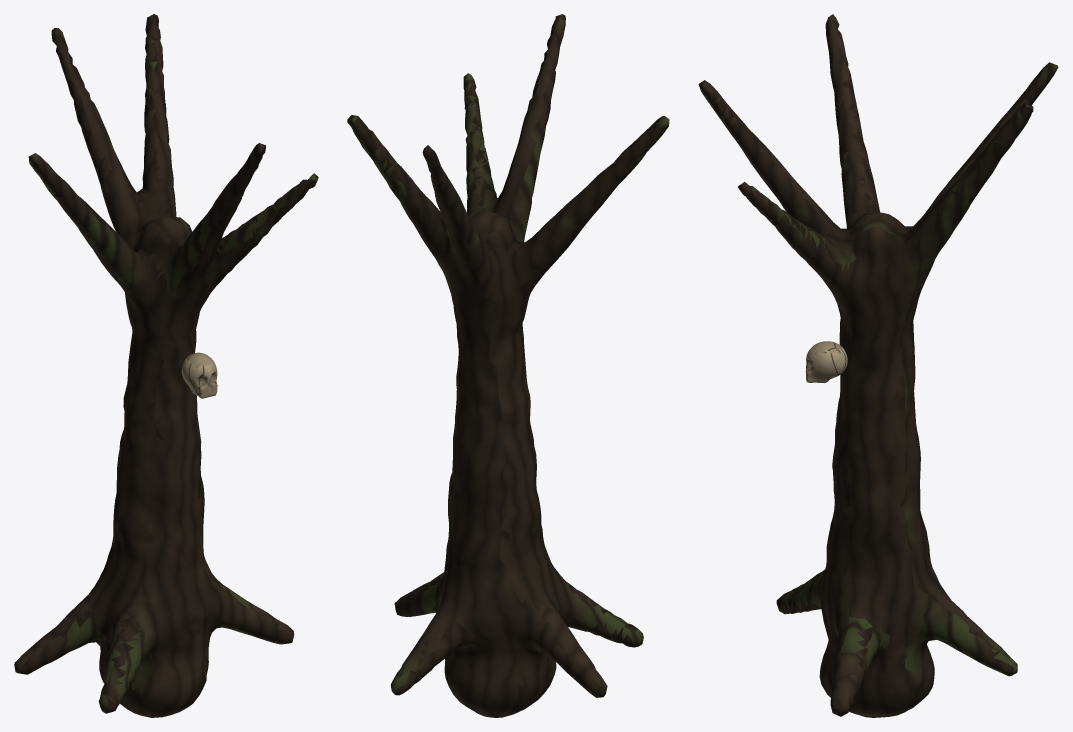
File: tree_dead.glb
3 renders of one model, left to right at view 1: azimuth 30°, elevation 25°; view 2: azimuth 150°, elevation 25°; view 3: azimuth 270°, elevation 25°, orthographic. The views are drawn at different scales.
Parts seen in each view (by area): view 1: Base; view 2: Base; view 3: Base.
Boxes of the visible parts, box(x1,y1,x2,y2) form: Base: box(14, 14, 318, 717); Base: box(347, 14, 669, 717); Base: box(698, 14, 1058, 717).
Size of the model in its own units: 0.6388 by 1.42 by 0.7186.
2 materials, 2 textured.
